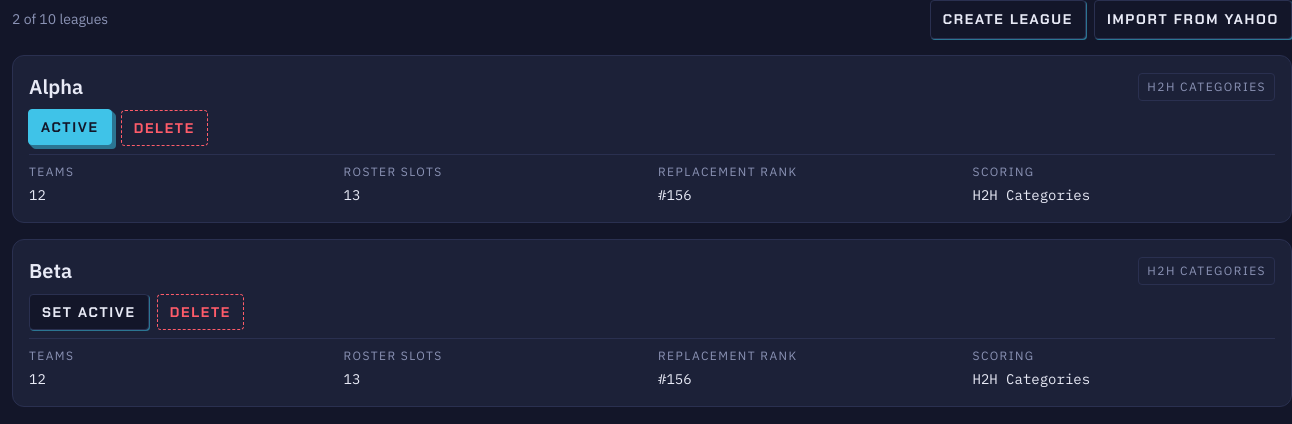
Test: LeagueList › keeps a deleted league's card gone while the refresh is on its way
Click the button "Delete" below "Alpha" at {"x": 164, "y": 128}, box [121,110,208,146]
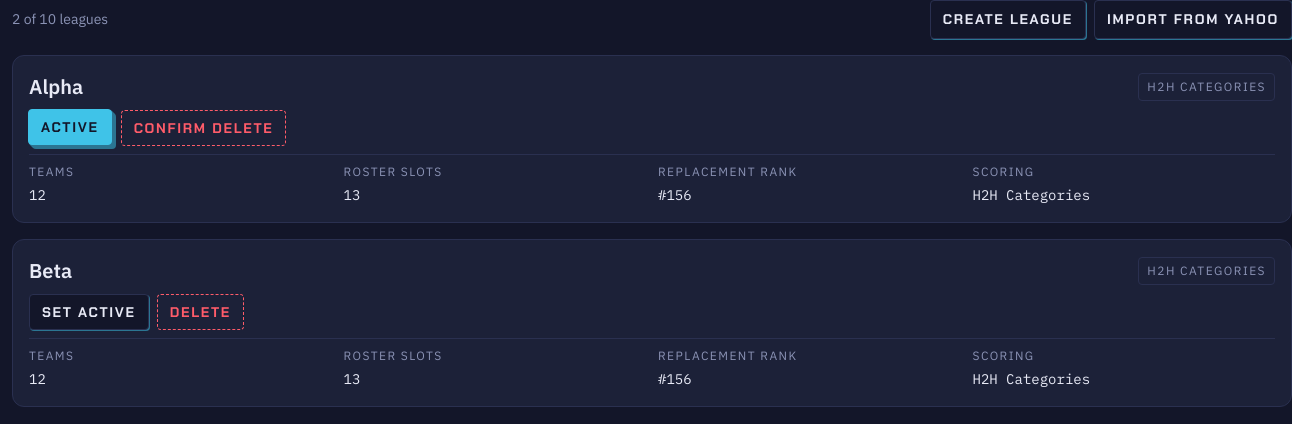
Click the button "Confirm delete" at {"x": 204, "y": 128}, box [121,110,286,146]
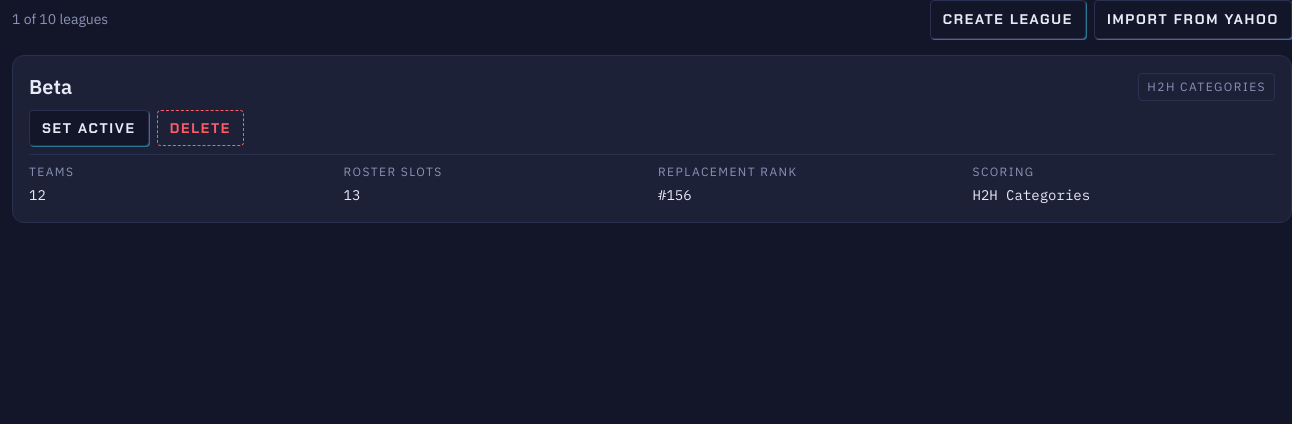
Expected: the link "Beta" is shown, [29,72,72,102]
Now the link "Alpha" is gone
Now the text "1 of 10 leagues" is shown, box [12,9,108,30]
